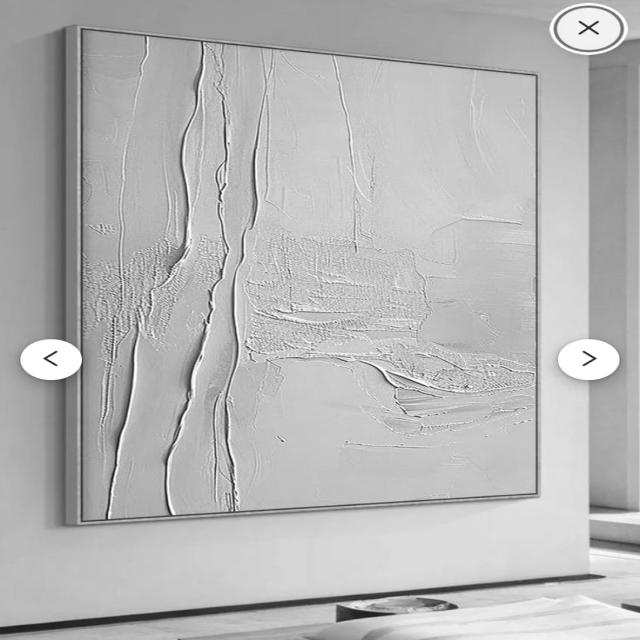trowels marks: (80, 36, 539, 522)
